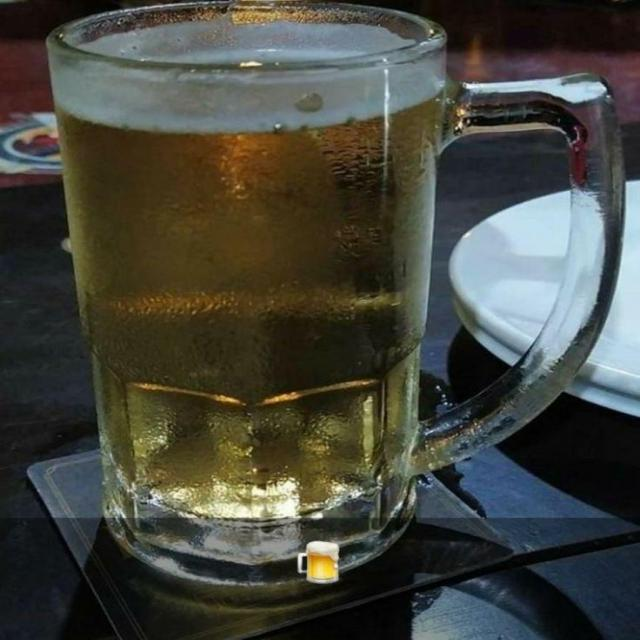glass-mug: (31, 0, 622, 599)
